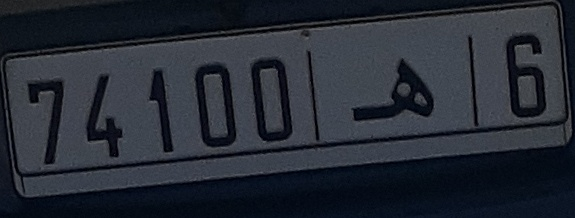0: (192, 55, 241, 149), (248, 48, 292, 145)
1: (141, 62, 181, 153)
4: (73, 67, 125, 163)
6: (498, 27, 555, 120)
7: (17, 76, 66, 167)
h: (340, 43, 441, 127)
